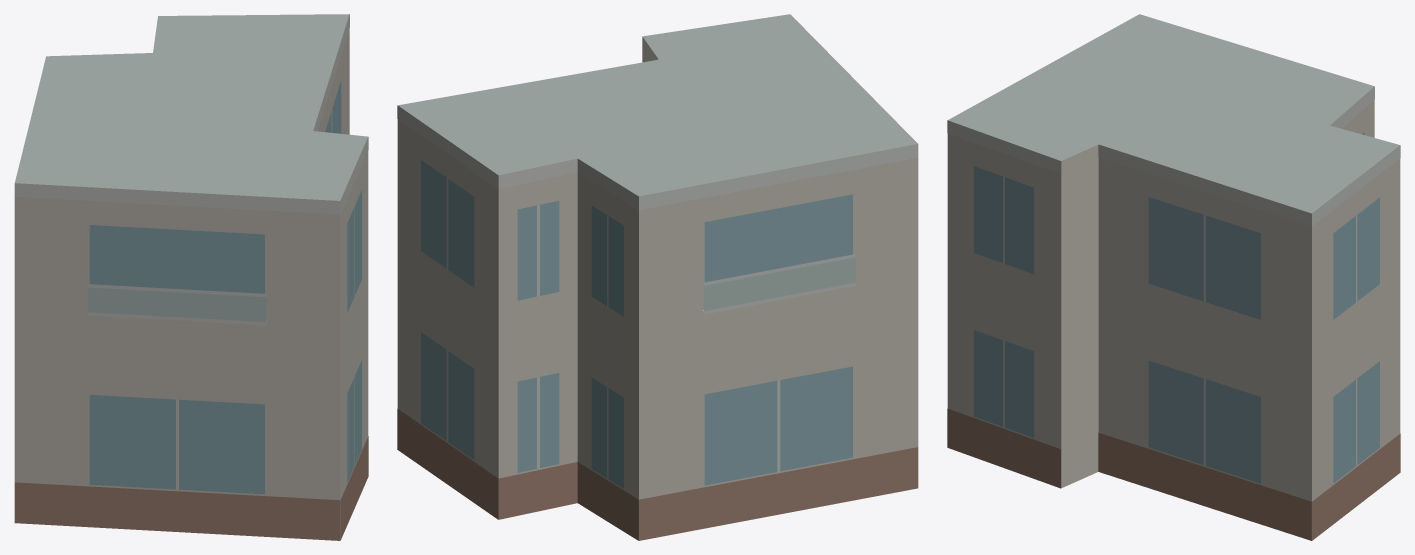
File: survey-upis-32470697.glb
The picture shows the model from 3 angles, left to right: view 1: azimuth 30°, elevation 25°; view 2: azimuth 150°, elevation 25°; view 3: azimuth 270°, elevation 25°; orthographic projection. The views are drawn at different scales.
Parts seen in each view (by area): view 1: survey-upis-32470697.tmp; view 2: survey-upis-32470697.tmp; view 3: survey-upis-32470697.tmp.
Part boxes in pixels (x1,y1,x2,y2): survey-upis-32470697.tmp: (14, 14, 368, 540); survey-upis-32470697.tmp: (397, 14, 918, 540); survey-upis-32470697.tmp: (947, 14, 1400, 540).
Bounding box in the file's own units: 7.98 × 6.1 × 7.66.
